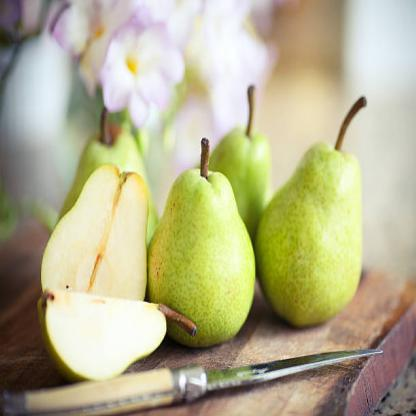Paer: (255, 118, 393, 330), (157, 152, 255, 351)
